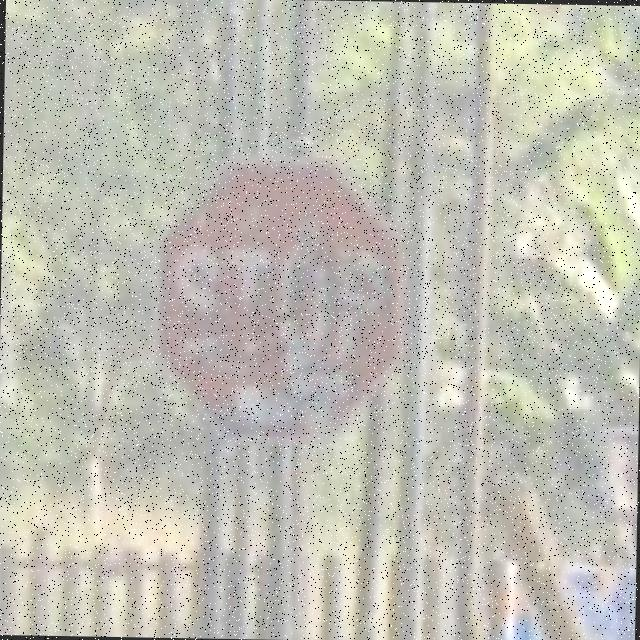Stop: (163, 154, 403, 442)
